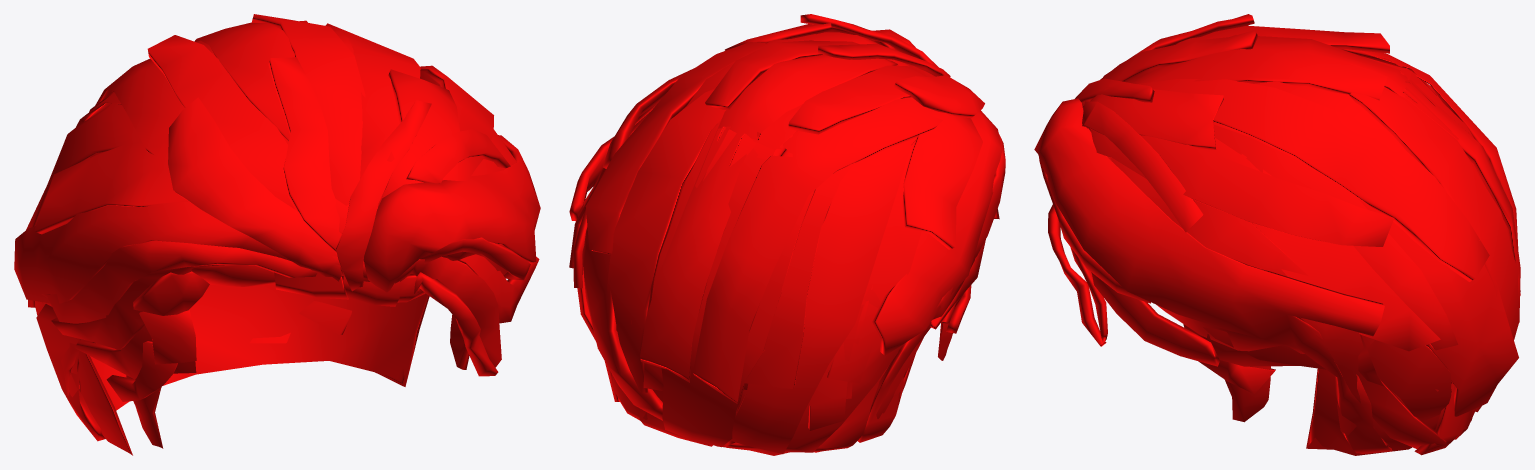
File: culturalibre_hair_05_F.glb
The picture shows the model from 3 angles, left to right: view 1: azimuth 30°, elevation 25°; view 2: azimuth 150°, elevation 25°; view 3: azimuth 270°, elevation 25°; orthographic projection. The views are drawn at different scales.
Size of the model in its own units: 0.2157 by 0.1834 by 0.2229.
Materials: 1 (1 with a texture image).
